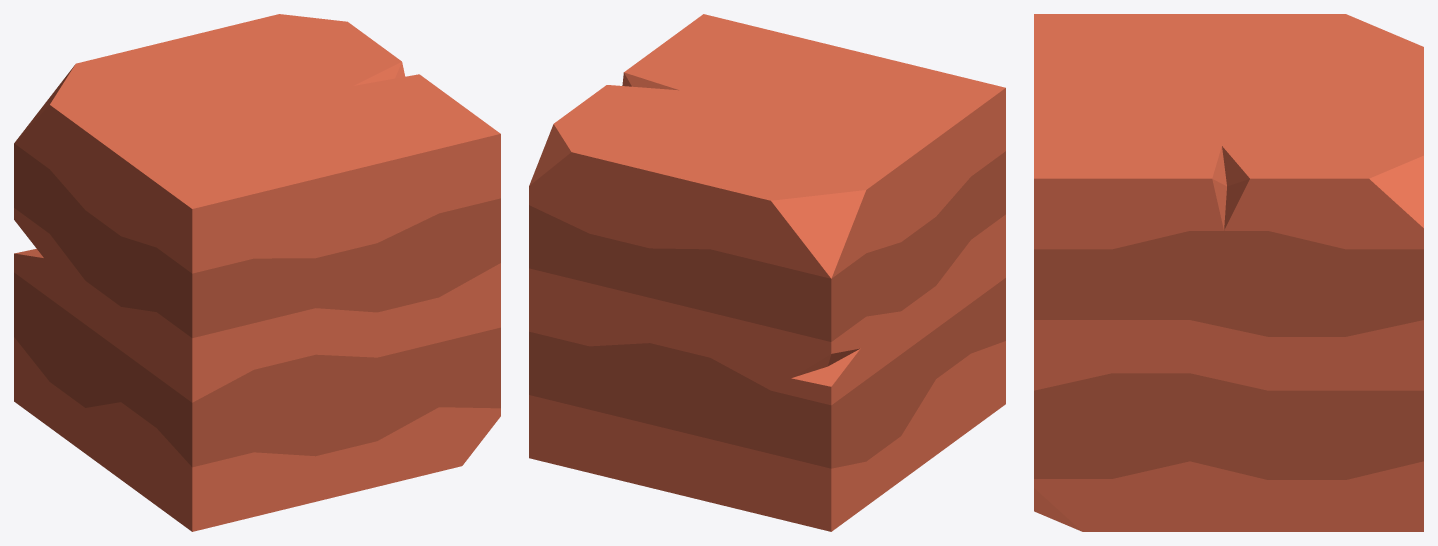
Rendered from Stone005.fbx.
3 renders of one model, left to right at view 1: azimuth 30°, elevation 25°; view 2: azimuth 150°, elevation 25°; view 3: azimuth 270°, elevation 25°, orthographic. The views are drawn at different scales.
Visible parts, largest first — view 1: Stone005; view 2: Stone005; view 3: Stone005.
Boxes of the visible parts, x1,y1,x2,y2 form: Stone005: [14, 14, 500, 531]; Stone005: [529, 14, 1005, 531]; Stone005: [1034, 14, 1423, 531].
Bounding box in the file's own units: 156 × 156 × 156.
